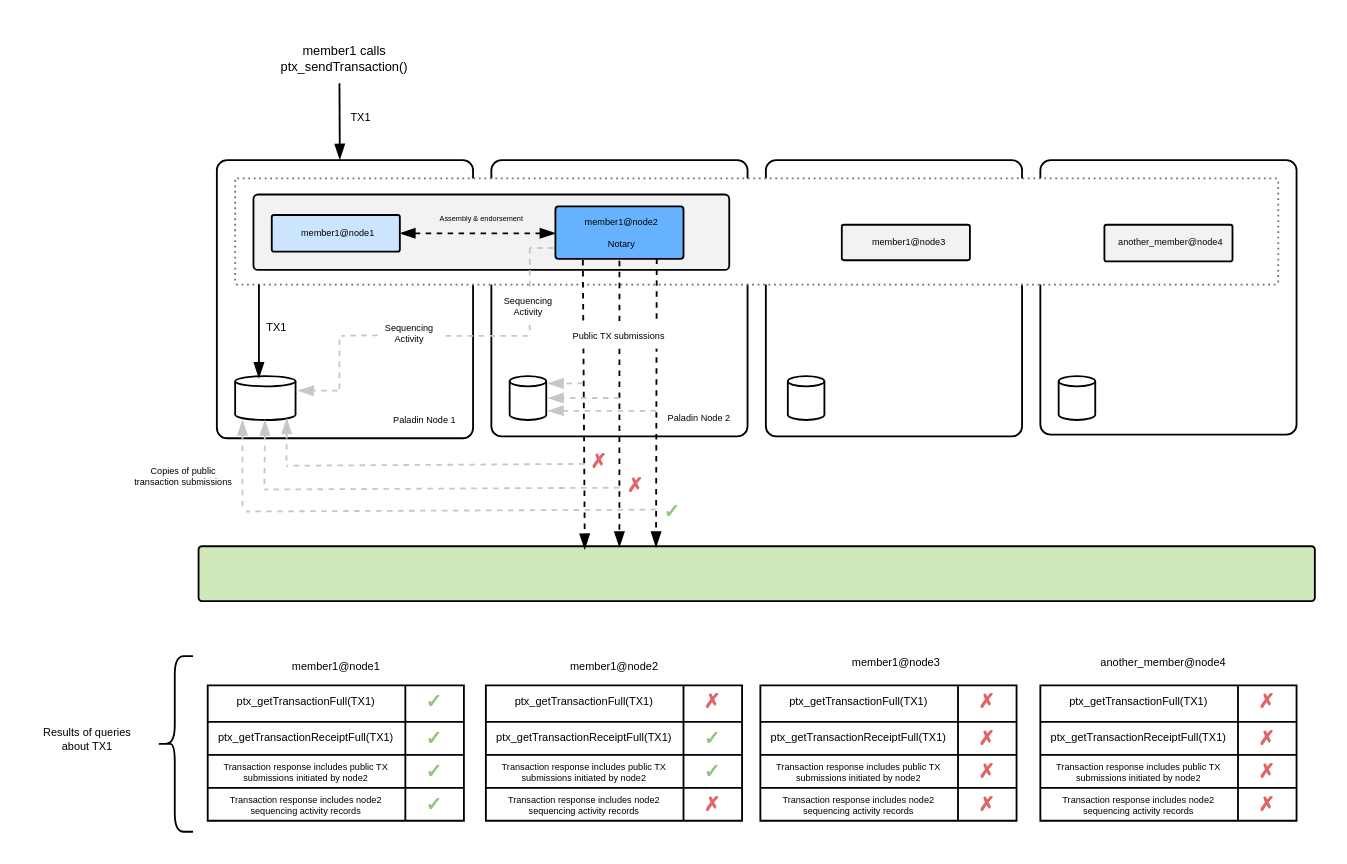
The diagram is 1347 pixels wide and 864 high, and some of its shapes have lost their labels. The box of each missing label's shape, as (x1, y1, x2, y2) in pixels:
Base Ledger: (197, 544, 1315, 601)
Noto Domain Instance: (233, 177, 1278, 285)
Paladin Node 3: (764, 158, 1022, 436)
Paladin Node 4: (1039, 158, 1297, 435)
